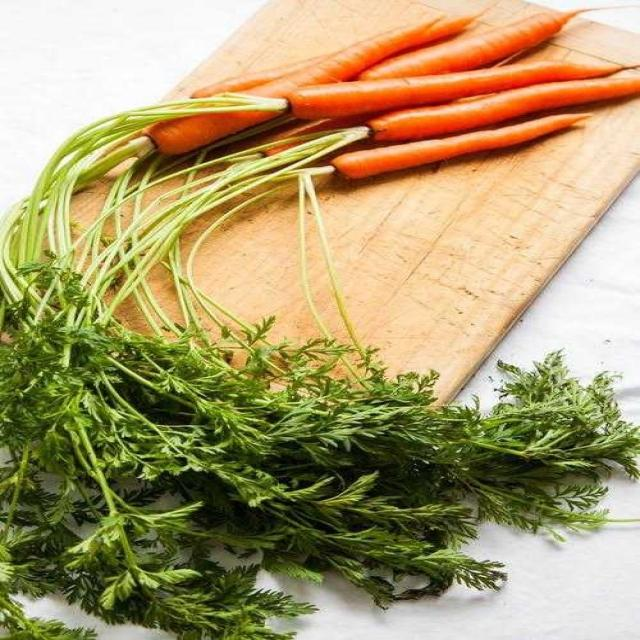carrots: (161, 9, 634, 206)
